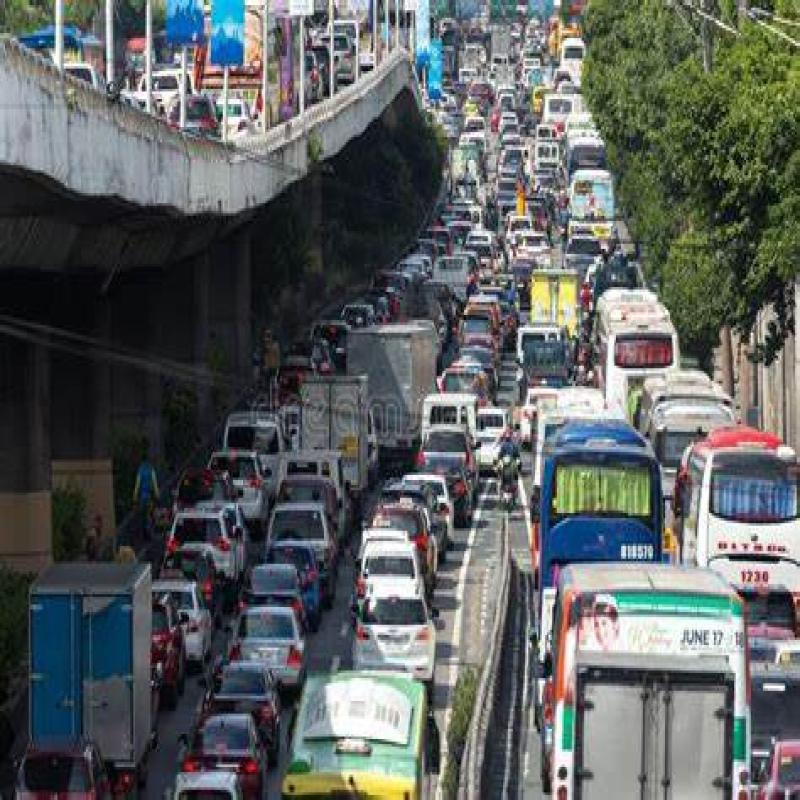car: (356, 580, 451, 676), (161, 512, 254, 584), (260, 496, 334, 573), (192, 708, 260, 782), (241, 608, 312, 677), (415, 436, 473, 504), (452, 344, 511, 380)
